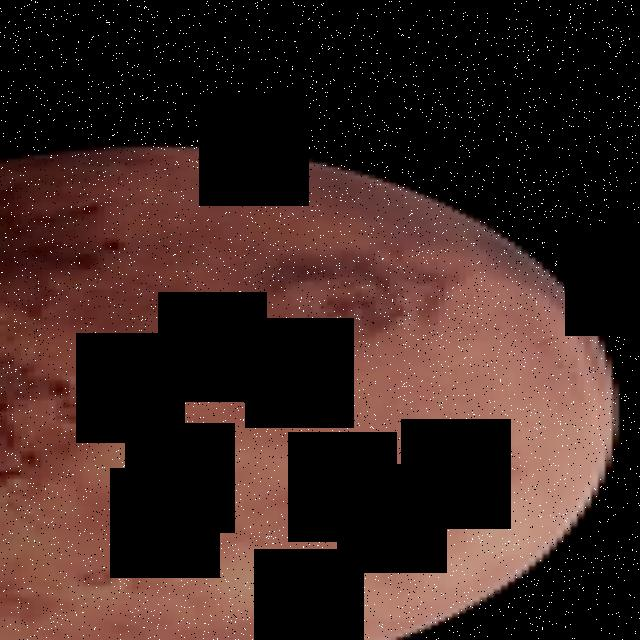Mars: (0, 142, 619, 640)
